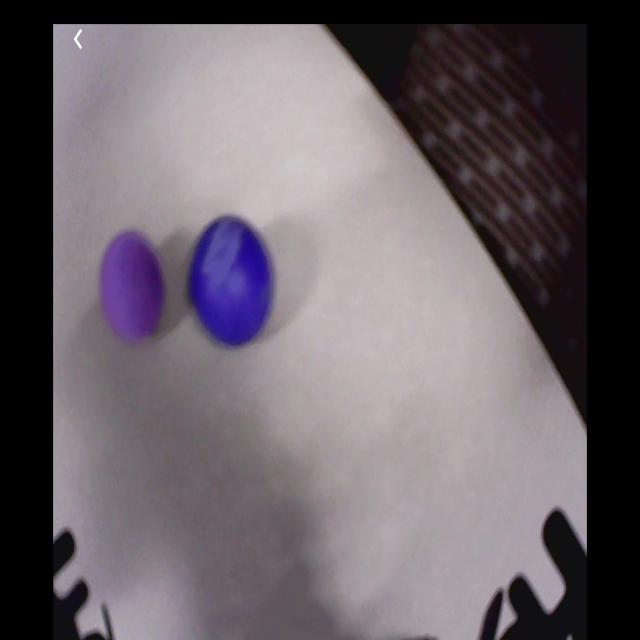ball: (187, 214, 274, 346), (101, 232, 165, 340)
